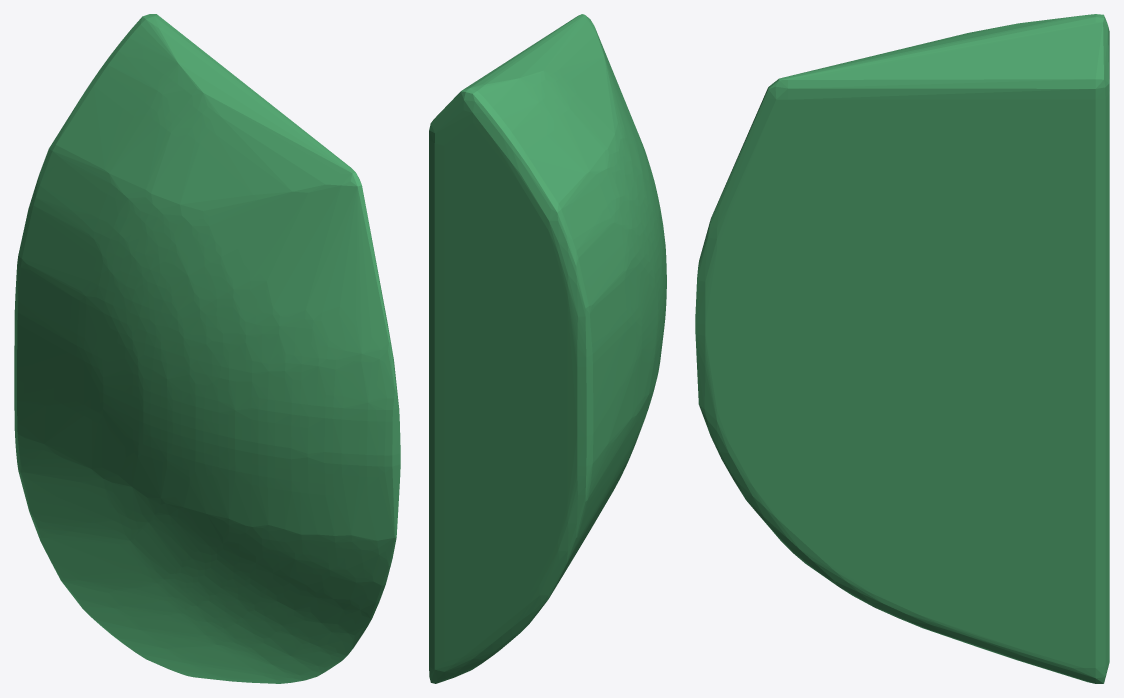
File: right_f_distal_pst_part_3.obj
3 views of the same model, side by side, from view 1: azimuth 30°, elevation 25°; view 2: azimuth 150°, elevation 25°; view 3: azimuth 270°, elevation 25° (orthographic). The views are drawn at different scales.
Size of the model in its own units: 3 by 10.59 by 6.14.
